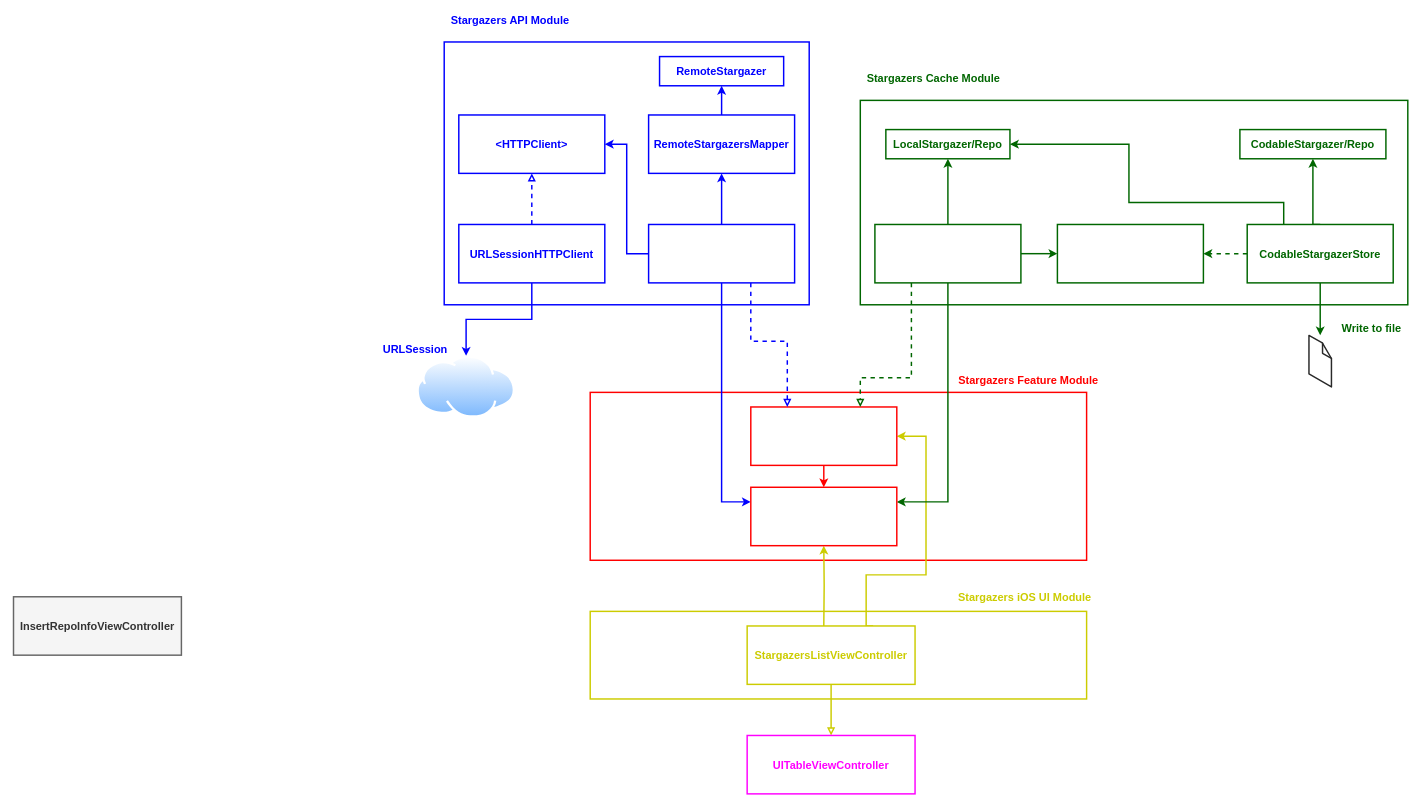
This 1421x807 diagram has some shape labels left out. The box of each missing label's shape, as (x1, y1, x2, y2) in pixels:
<StargazersLoader>: (750, 406, 897, 466)
<StargazersStore>: (1056, 223, 1204, 283)
LocalStargazersLoader: (874, 223, 1021, 283)
RemoteStargazersLoader: (648, 223, 795, 283)
Stargazer/Repository: (750, 486, 897, 546)
